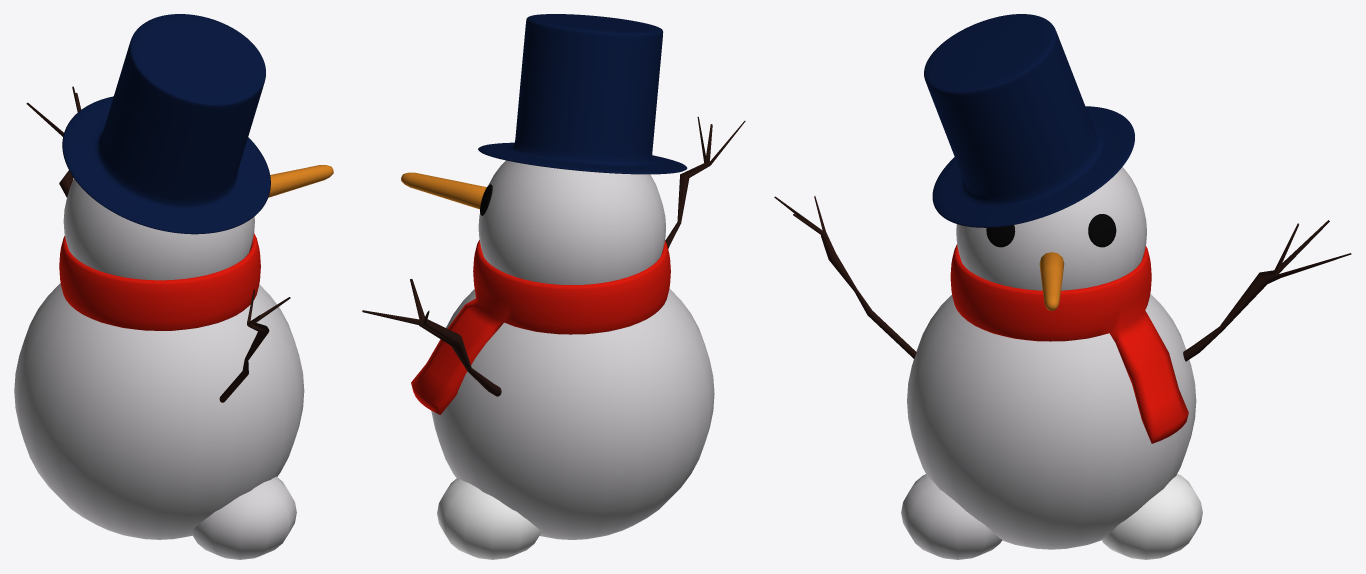
Rendered from SnowMan.fbx.
The picture shows the model from 3 angles, left to right: view 1: azimuth 30°, elevation 25°; view 2: azimuth 150°, elevation 25°; view 3: azimuth 270°, elevation 25°; orthographic projection.
Parts seen in each view (by area): view 1: Sphere, Cylinder, Torus.001, Sphere.001, Sphere.005, Sphere.002, Cylinder.001, Cylinder.002; view 2: Sphere, Cylinder, Sphere.001, Torus.001, Sphere.006, Cylinder.002, Sphere.002, Cylinder.001; view 3: Sphere, Cylinder, Torus.001, Sphere.001, Sphere.006, Sphere.005, Cylinder.002, Cylinder.001, Sphere.002, Sphere.004.
Part boxes in pixels (x1,y1,x2,y2): Sphere: [14, 283, 304, 539]; Cylinder: [62, 14, 270, 234]; Torus.001: [59, 233, 260, 330]; Sphere.001: [63, 178, 254, 280]; Sphere.005: [191, 476, 296, 559]; Sphere.002: [268, 165, 333, 197]; Cylinder.001: [219, 289, 290, 402]; Cylinder.002: [26, 86, 81, 197]; Sphere: [431, 288, 714, 539]; Cylinder: [478, 14, 687, 174]; Sphere.001: [478, 160, 665, 284]; Torus.001: [411, 240, 670, 414]; Sphere.006: [437, 478, 540, 559]; Cylinder.002: [362, 279, 501, 396]; Sphere.002: [401, 172, 486, 209]; Cylinder.001: [665, 117, 745, 248]; Sphere: [907, 294, 1196, 549]; Cylinder: [924, 14, 1134, 227]; Torus.001: [950, 244, 1188, 443]; Sphere.001: [956, 167, 1146, 290]; Sphere.006: [1101, 474, 1202, 559]; Sphere.005: [901, 474, 1001, 559]; Cylinder.002: [1183, 220, 1351, 361]; Cylinder.001: [774, 196, 916, 358]; Sphere.002: [1039, 252, 1064, 310]; Sphere.004: [1088, 214, 1116, 247].
Size of the model in its own units: 228 by 372 by 383.
